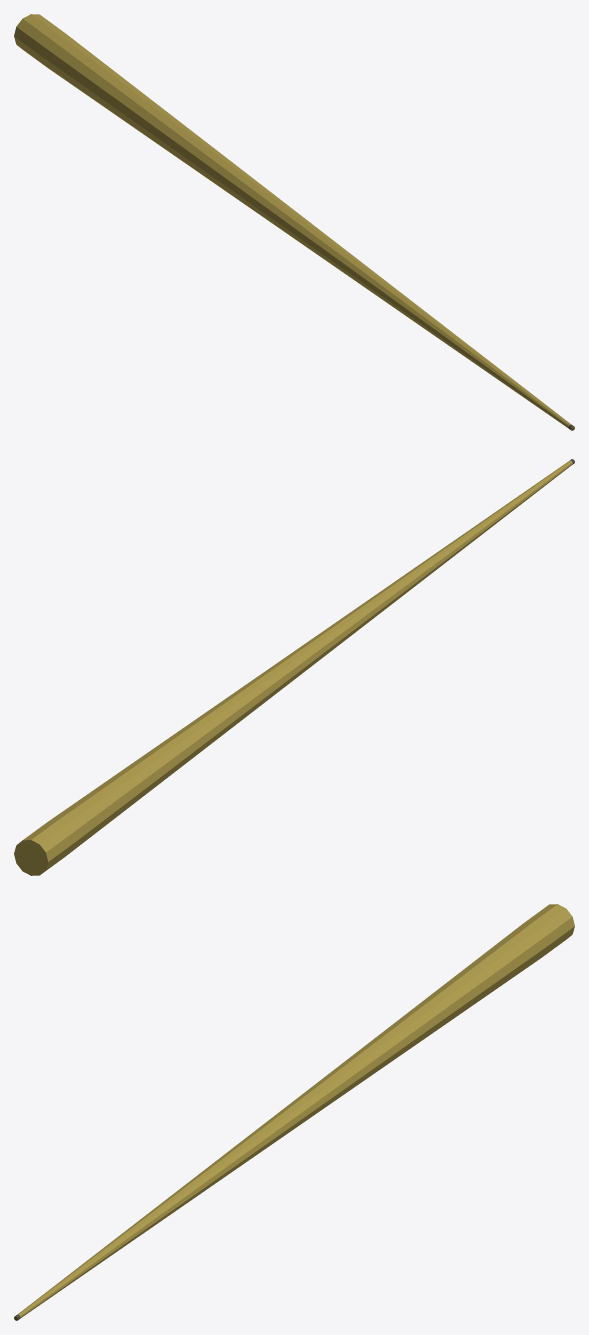
File: Base_Mesh_PoolQue.fbx
The picture shows the model from 3 angles, top to bottom: view 1: azimuth 30°, elevation 25°; view 2: azimuth 150°, elevation 25°; view 3: azimuth 330°, elevation 25°; orthographic projection.
Parts seen in each view (by area): view 1: BaseMesh_PoolQue; view 2: BaseMesh_PoolQue; view 3: BaseMesh_PoolQue.
Boxes of the visible parts, box(x1,y1,x2,y2) form: BaseMesh_PoolQue: box(14, 14, 574, 430); BaseMesh_PoolQue: box(14, 459, 574, 875); BaseMesh_PoolQue: box(14, 904, 574, 1320).
Size of the model in its own units: 2.62 by 2.62 by 71.69.
